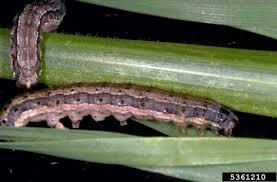fallarmy_worm: (1, 87, 239, 140), (8, 1, 70, 89)
